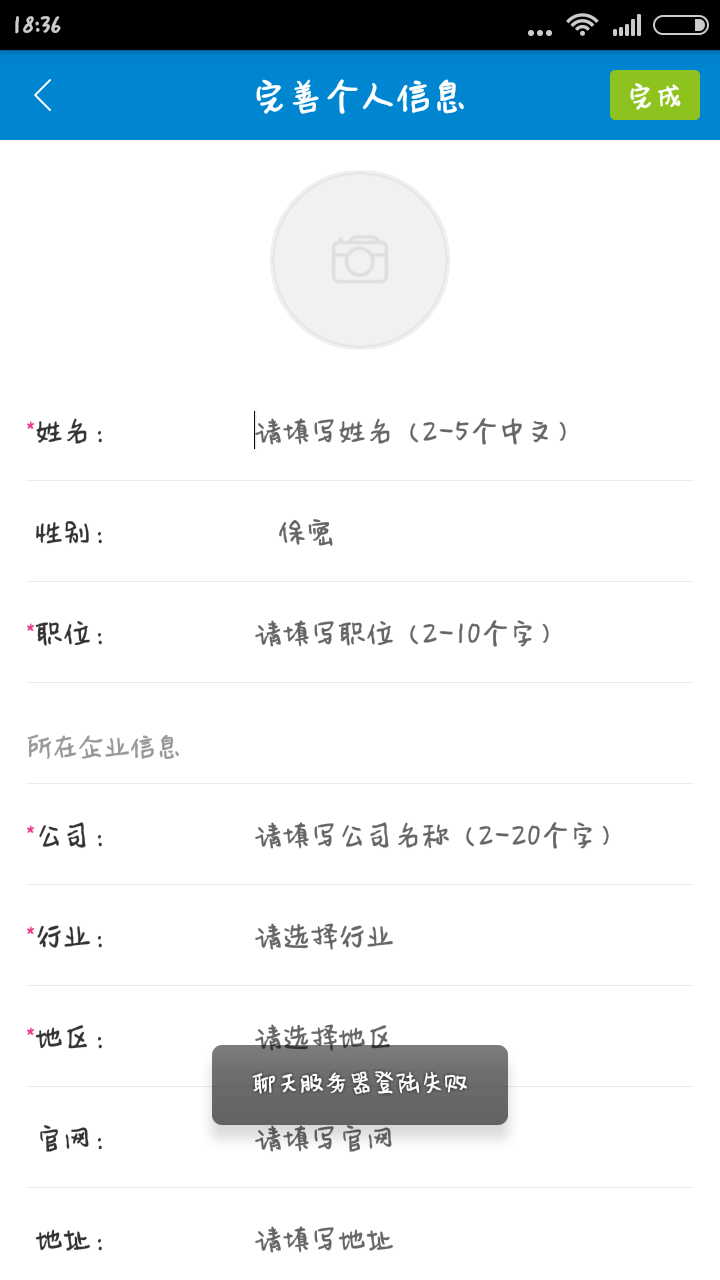alert: (210, 1041, 514, 1131)
button: (600, 64, 709, 131)
imgview: (251, 158, 467, 364)
textview: (8, 396, 708, 695)
